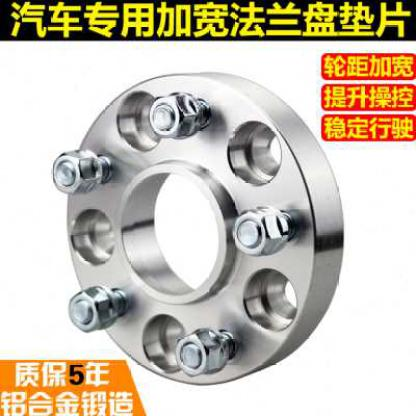FOD: (55, 66, 349, 388)
